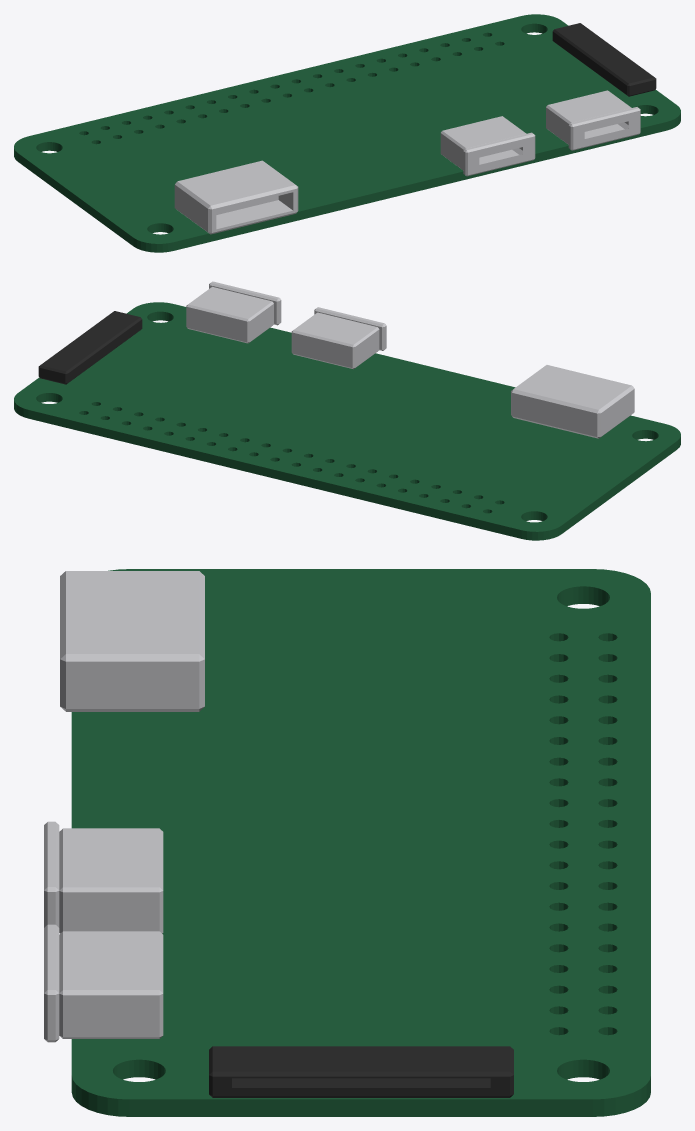
Rendered from raspberry-pi-zero-2w.glb.
The picture shows the model from 3 angles, top to bottom: view 1: azimuth 30°, elevation 25°; view 2: azimuth 150°, elevation 25°; view 3: azimuth 270°, elevation 25°; orthographic projection. The views are drawn at different scales.
Parts seen in each view (by area): view 1: raspberry-pi-zero-2w; view 2: raspberry-pi-zero-2w; view 3: raspberry-pi-zero-2w.
Boxes of the visible parts, box(x1,y1,x2,y2) form: raspberry-pi-zero-2w: box(14, 14, 680, 252); raspberry-pi-zero-2w: box(14, 281, 680, 540); raspberry-pi-zero-2w: box(44, 569, 650, 1116).
Bounding box in the file's own units: 65 × 4.3 × 31.44.
